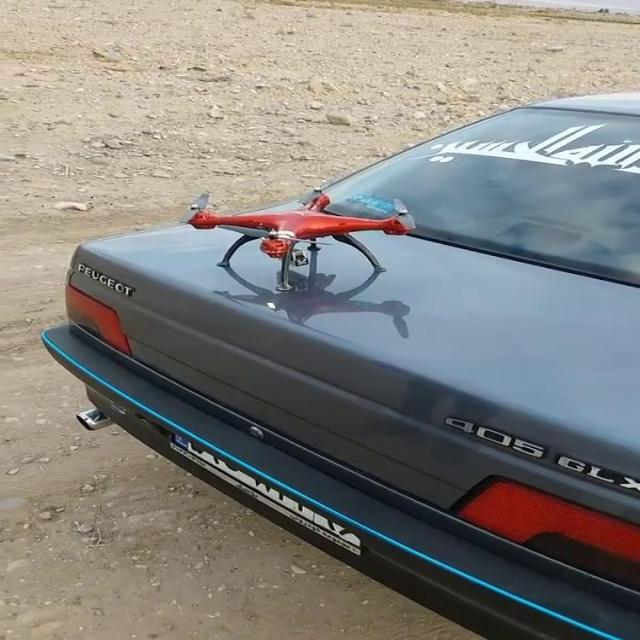drone: (172, 176, 418, 294)
